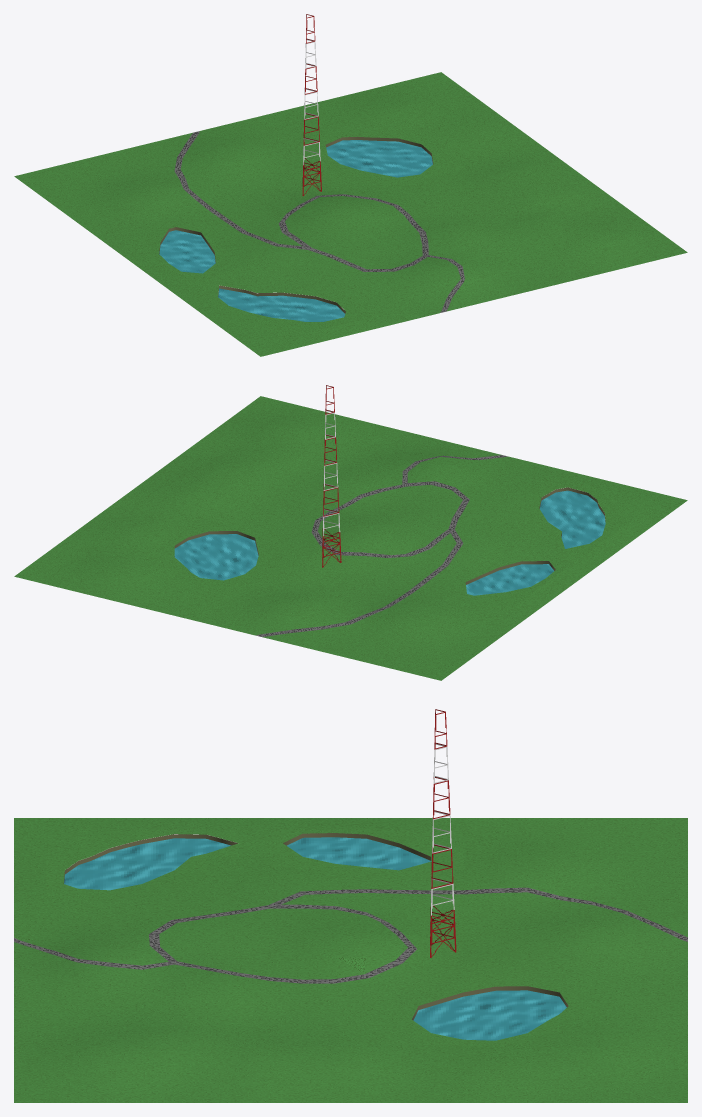
File: rock_kicking_park_ground_final_wip.glb
3 renders of one model, top to bottom at view 1: azimuth 30°, elevation 25°; view 2: azimuth 150°, elevation 25°; view 3: azimuth 270°, elevation 25°, orthographic. The views are drawn at different scales.
Parts seen in each view (by area): view 1: GroundIntactTrees, GroundIntactNoTrees, GroundLakes, GroundPath, Cell Tower, GroundLakeSides; view 2: GroundIntactTrees, GroundIntactNoTrees, GroundLakes, GroundPath, Cell Tower, GroundLakeSides; view 3: GroundIntactTrees, GroundIntactNoTrees, GroundLakes, GroundPath, GroundLakeSides, Cell Tower.
Boxes of the visible parts, bbox=[...] form: GroundIntactTrees: bbox=[14, 72, 687, 356]; GroundIntactNoTrees: bbox=[128, 126, 464, 331]; GroundLakes: bbox=[159, 140, 432, 321]; GroundPath: bbox=[174, 131, 464, 312]; Cell Tower: bbox=[302, 14, 321, 195]; GroundLakeSides: bbox=[159, 136, 433, 313]; GroundIntactTrees: bbox=[14, 396, 687, 680]; GroundIntactNoTrees: bbox=[154, 478, 631, 609]; GroundLakes: bbox=[174, 490, 605, 595]; GroundPath: bbox=[256, 455, 507, 636]; Cell Tower: bbox=[322, 385, 341, 567]; GroundLakeSides: bbox=[174, 487, 605, 584]; GroundIntactTrees: bbox=[14, 818, 687, 1102]; GroundIntactNoTrees: bbox=[46, 829, 591, 1046]; GroundLakes: bbox=[64, 837, 566, 1040]; GroundPath: bbox=[14, 887, 687, 983]; GroundLakeSides: bbox=[63, 833, 568, 1020]; Cell Tower: bbox=[430, 709, 456, 957].
Bounding box in the file's own units: 500 × 215 × 500.
5 materials, 4 textured.
